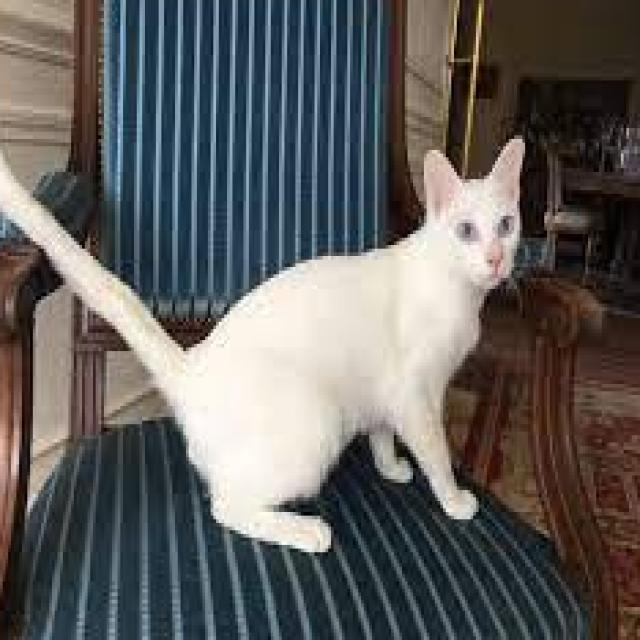Khao Manee: (0, 102, 528, 556)
